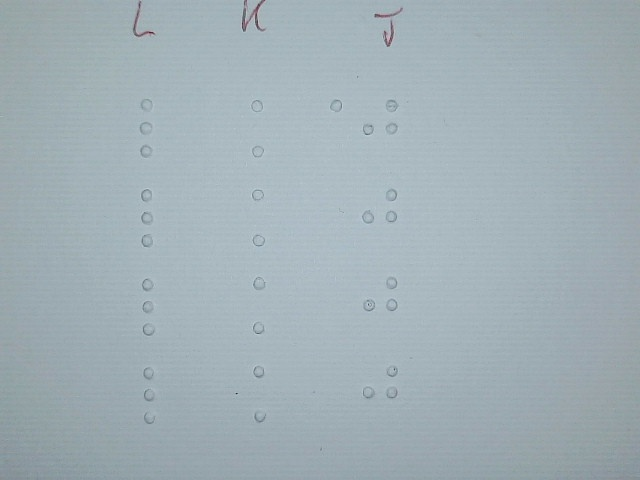J: (360, 91, 400, 151), (359, 181, 399, 241), (360, 267, 400, 327), (360, 355, 400, 415)
K: (243, 97, 287, 159), (244, 187, 288, 249), (245, 274, 289, 336), (246, 363, 290, 425)
L: (132, 97, 176, 159), (133, 187, 177, 249), (134, 275, 178, 337), (135, 363, 179, 425)
